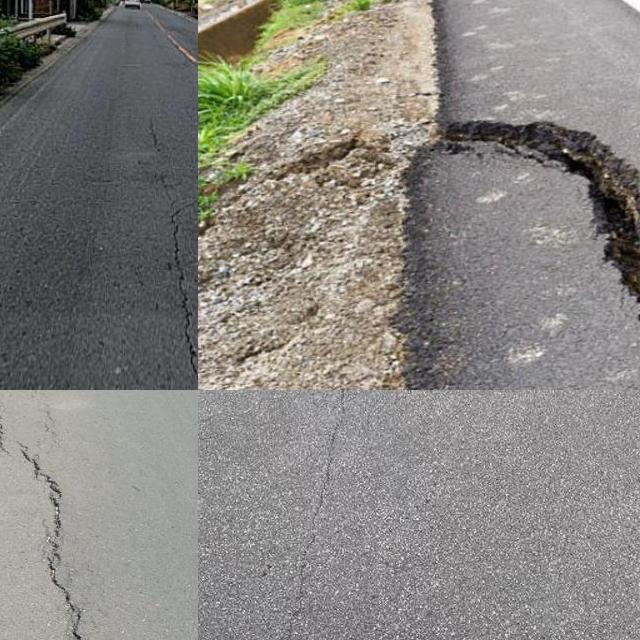Memanjang: (274, 390, 369, 640), (0, 405, 89, 640)
Pinggir: (388, 105, 640, 390)
